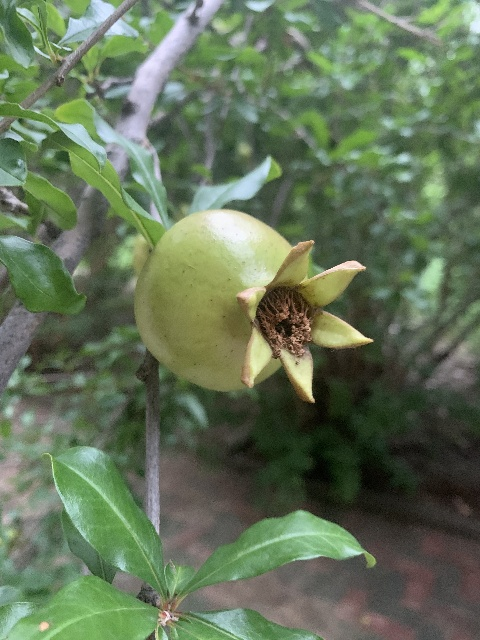mid-growth: (135, 207, 376, 404)
